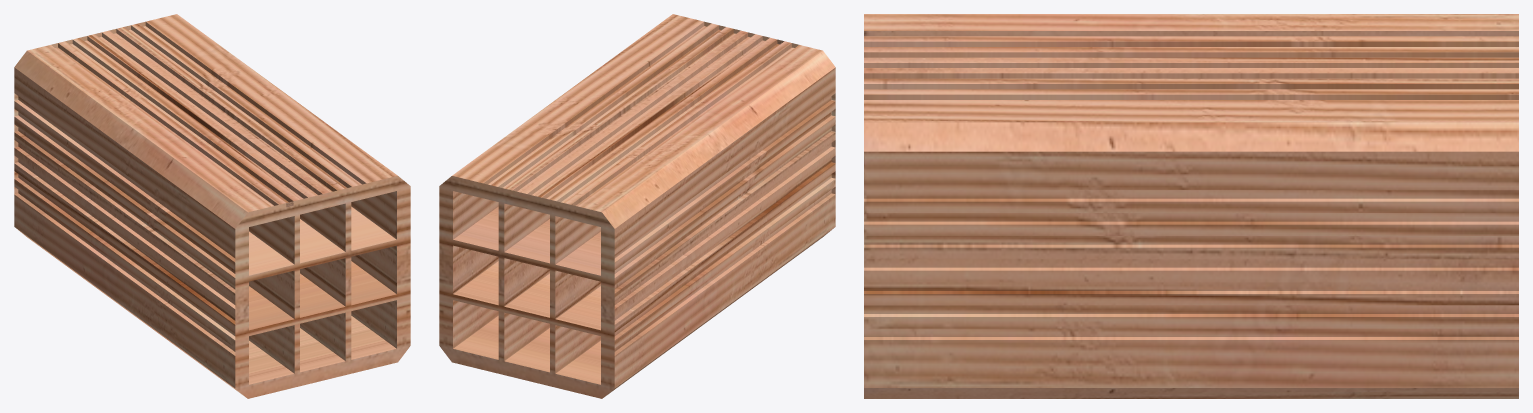
The model's file is ladrillo naranja.fbx.
3 renders of one model, left to right at view 1: azimuth 30°, elevation 25°; view 2: azimuth 150°, elevation 25°; view 3: azimuth 270°, elevation 25°, orthographic. The views are drawn at different scales.
Visible parts, largest first — view 1: ladrillo naranja solo; view 2: ladrillo naranja solo; view 3: ladrillo naranja solo.
Part boxes in pixels (box(x1,y1,x2,y2)): ladrillo naranja solo: box(14, 14, 410, 398); ladrillo naranja solo: box(439, 14, 835, 398); ladrillo naranja solo: box(864, 14, 1518, 398).
Size of the model in its own units: 118 by 120 by 258.
